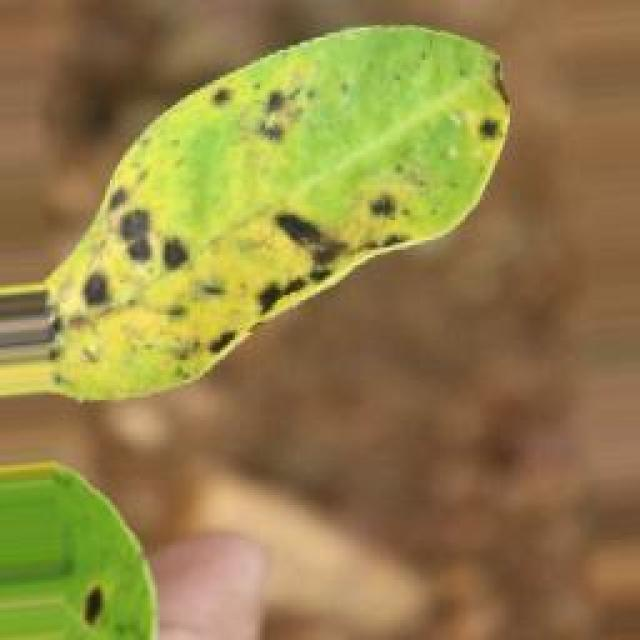Yellowish: (58, 45, 533, 406), (66, 564, 128, 636)
